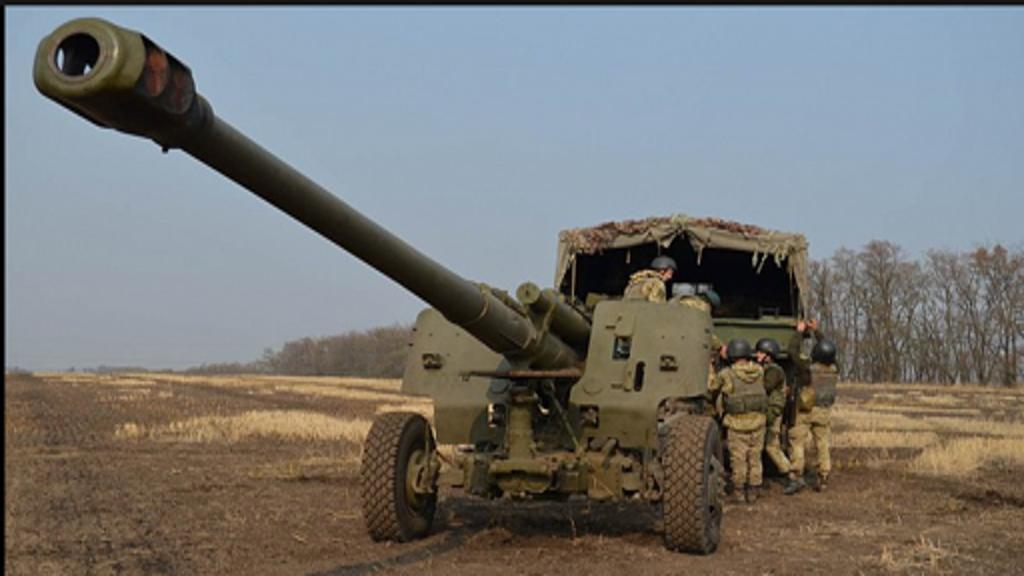ART: (24, 15, 732, 556)
TRUCK: (554, 215, 812, 485)
